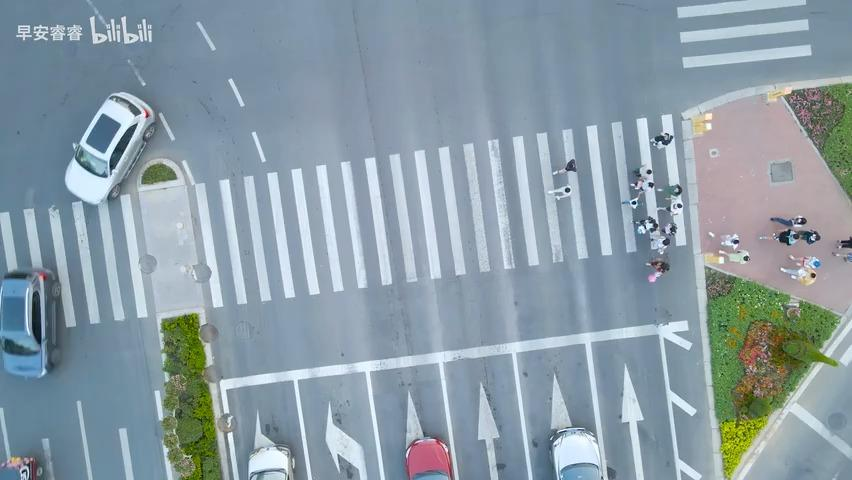Civilian: (758, 228, 820, 245), (779, 266, 816, 285), (647, 237, 675, 261), (761, 84, 792, 105), (645, 257, 669, 283), (637, 215, 662, 236), (630, 158, 656, 177), (663, 223, 686, 244), (788, 254, 820, 269), (772, 228, 800, 245), (718, 249, 750, 263), (552, 158, 576, 175), (770, 215, 807, 226), (657, 183, 682, 199), (656, 201, 682, 215), (796, 229, 820, 244), (650, 132, 673, 147), (547, 185, 571, 199), (720, 233, 739, 250), (633, 178, 654, 191), (831, 250, 851, 262), (621, 196, 640, 208), (835, 236, 851, 249)
